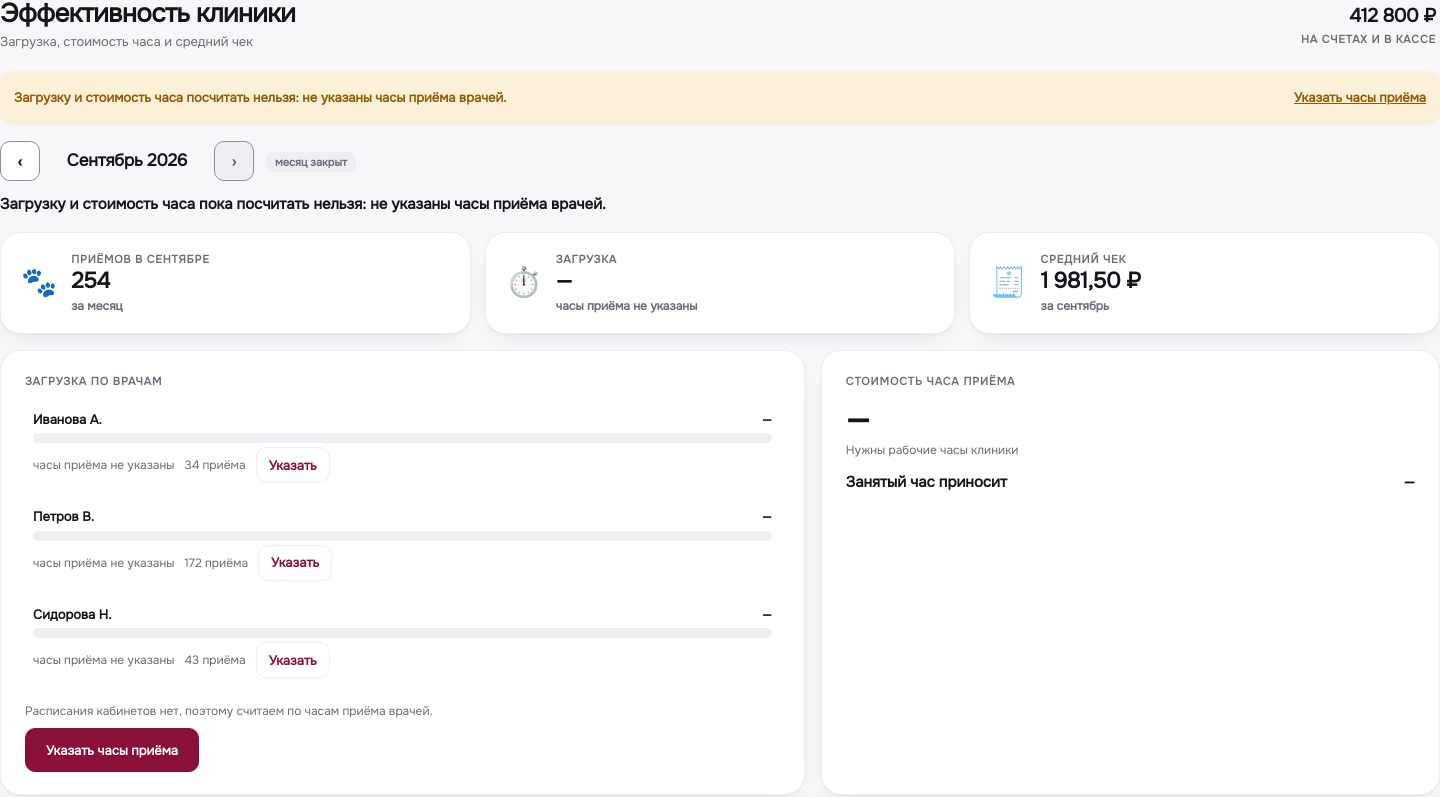
EfficiencyPage: doctors (the fallback mode) › shows the banner and dashes when no hours are set, and the hours are saved from the dialog
The image size is (1440, 797).
Check: the message with test id "efficiency-hours-banner" shows "Загрузку и стоимость часа посчитать нельзя: не указаны часы приёма врачей.", box [14,89,507,106]
Check: the text with test id "efficiency-load" reads "—", box [556,267,572,295]
Click the 1st button "Указать часы приёма" at {"x": 1360, "y": 98}, box [1294,82,1426,114]
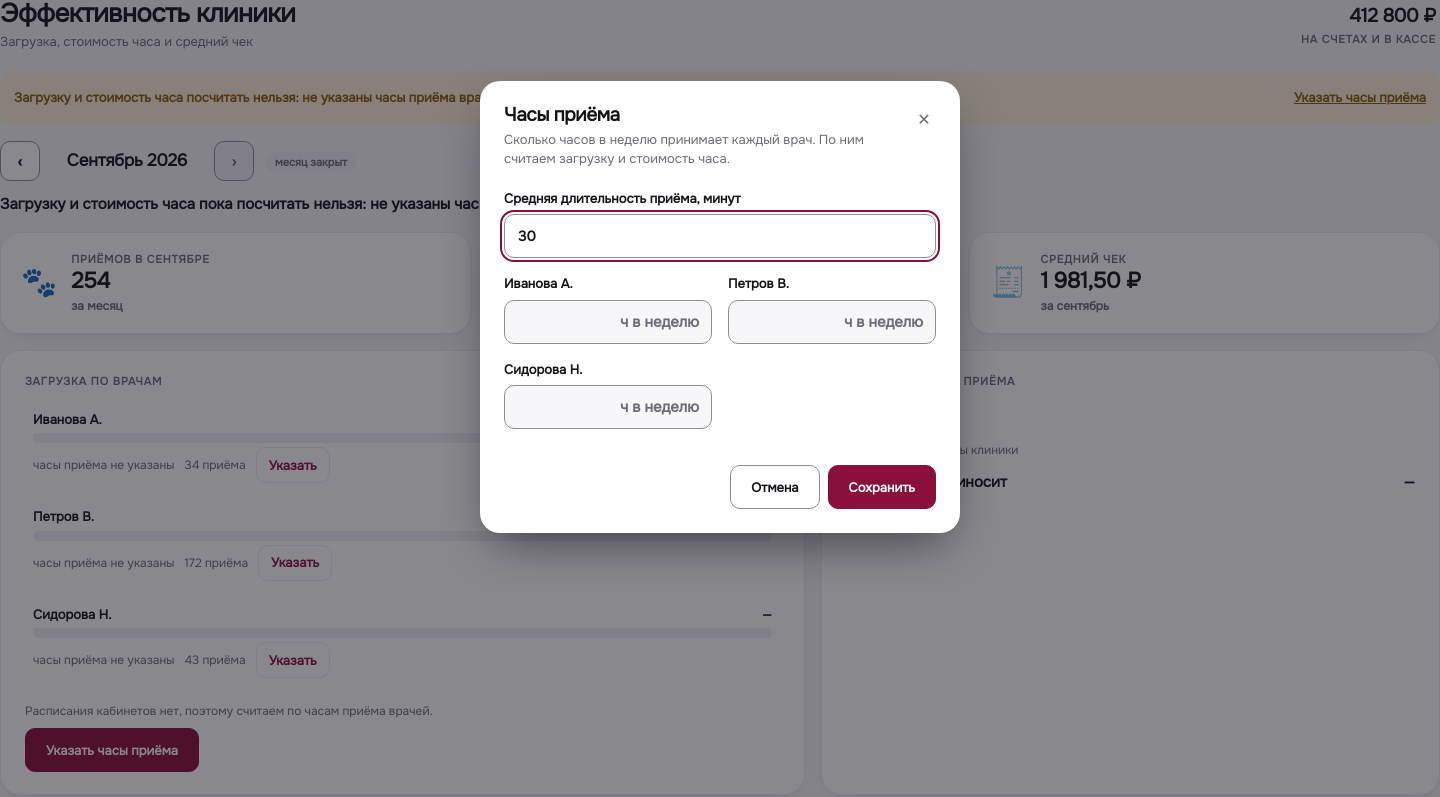
Type "30" into the field with test id "^efficiency-hours-field-doctor-[^-]+(-[^-]+)*$" at {"x": 608, "y": 322}, box [504,300,712,344]
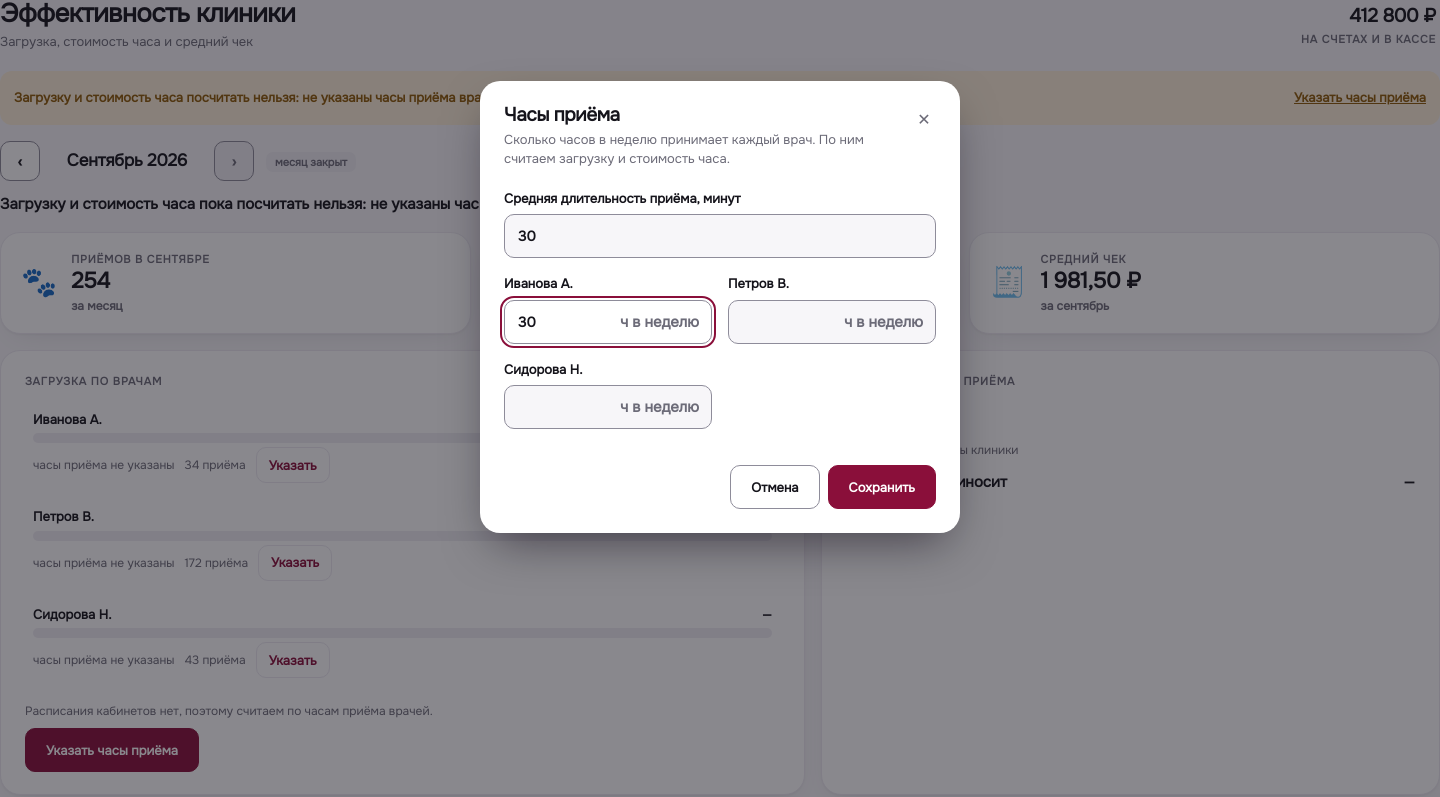
Type "30" into the field with test id "^efficiency-hours-field-doctor-[^-]+(-[^-]+)*$" at {"x": 832, "y": 322}, box [728,300,936,344]
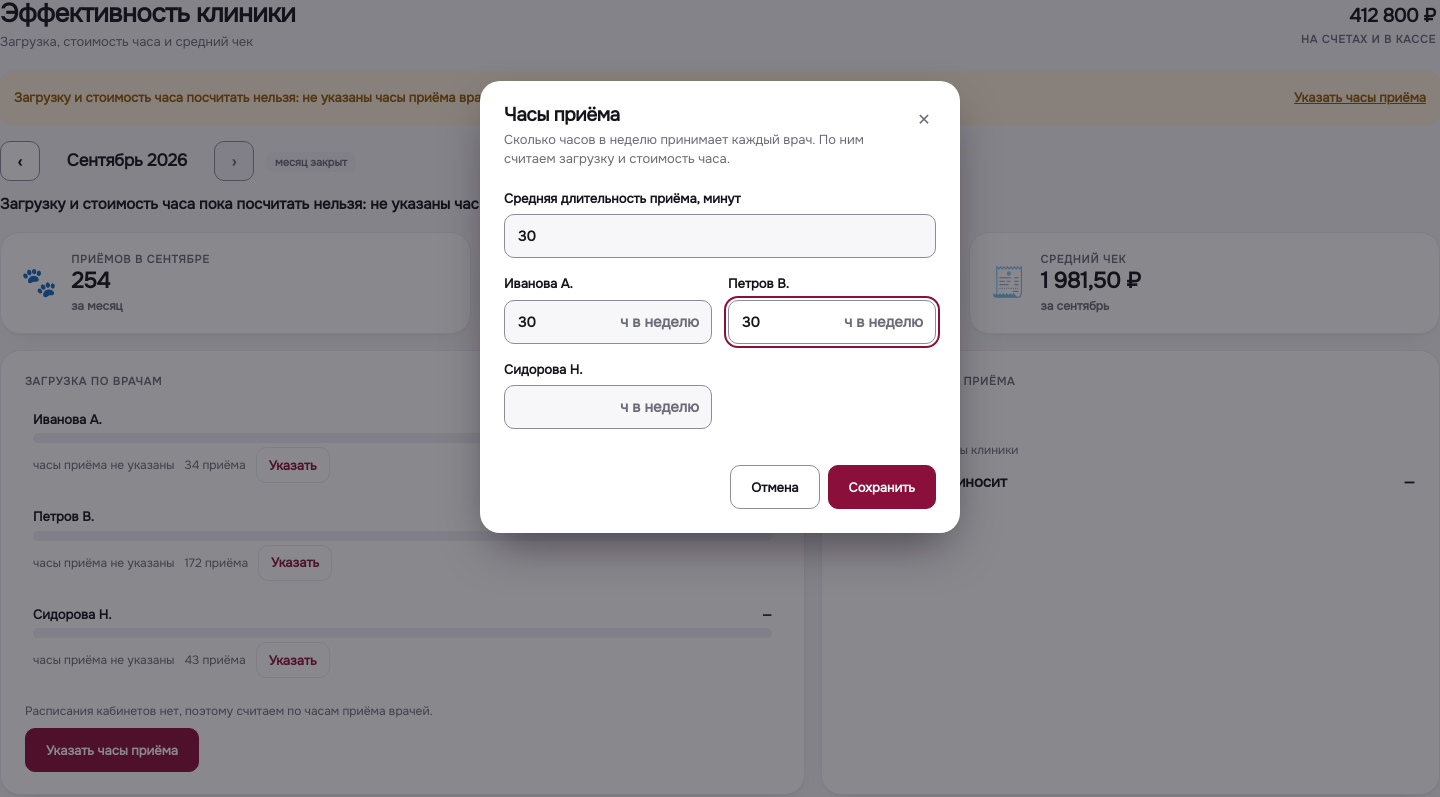
Type "30" into the field with test id "^efficiency-hours-field-doctor-[^-]+(-[^-]+)*$" at {"x": 608, "y": 407}, box [504,385,712,429]
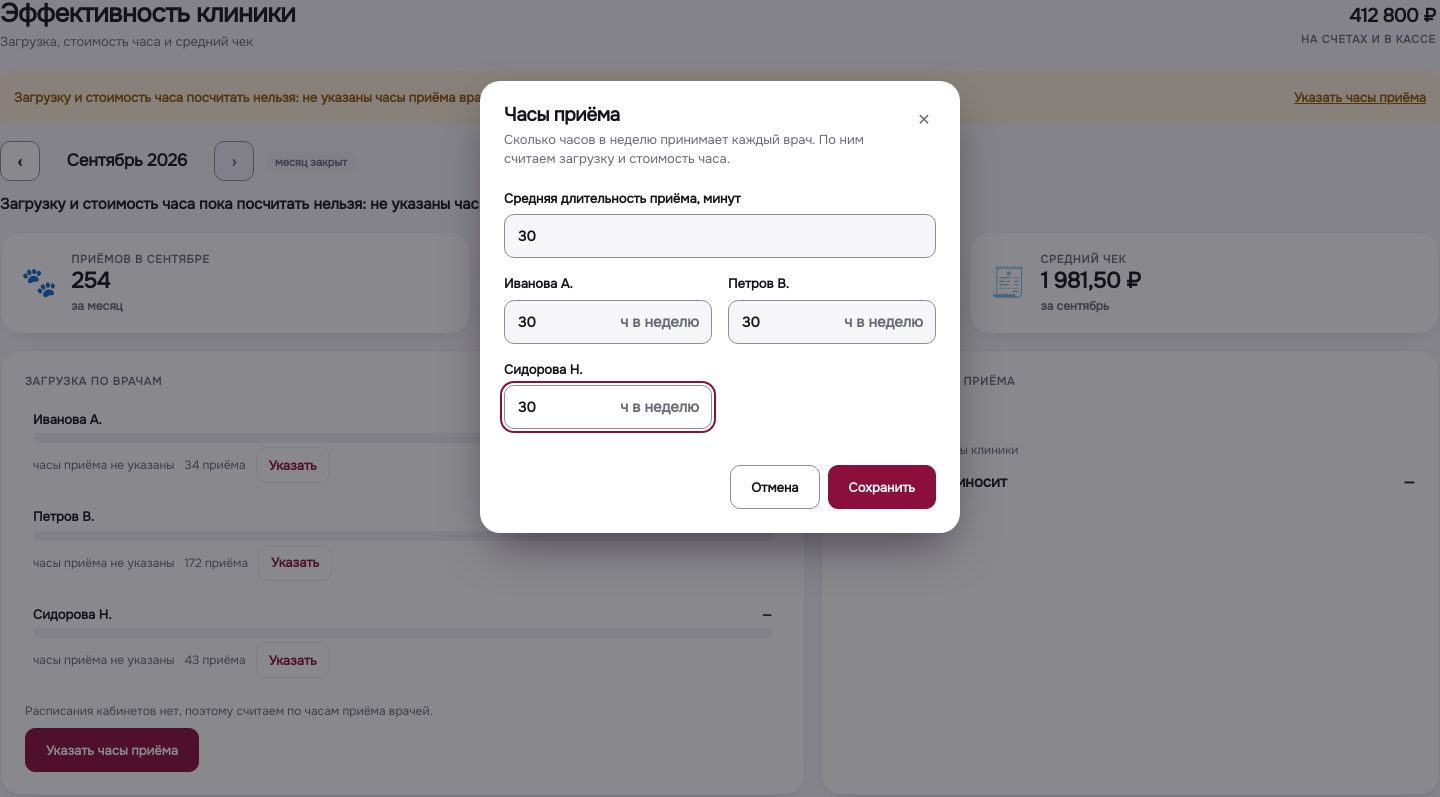
Click the button with test id "efficiency-hours-save" at {"x": 882, "y": 487}, box [828,465,936,509]
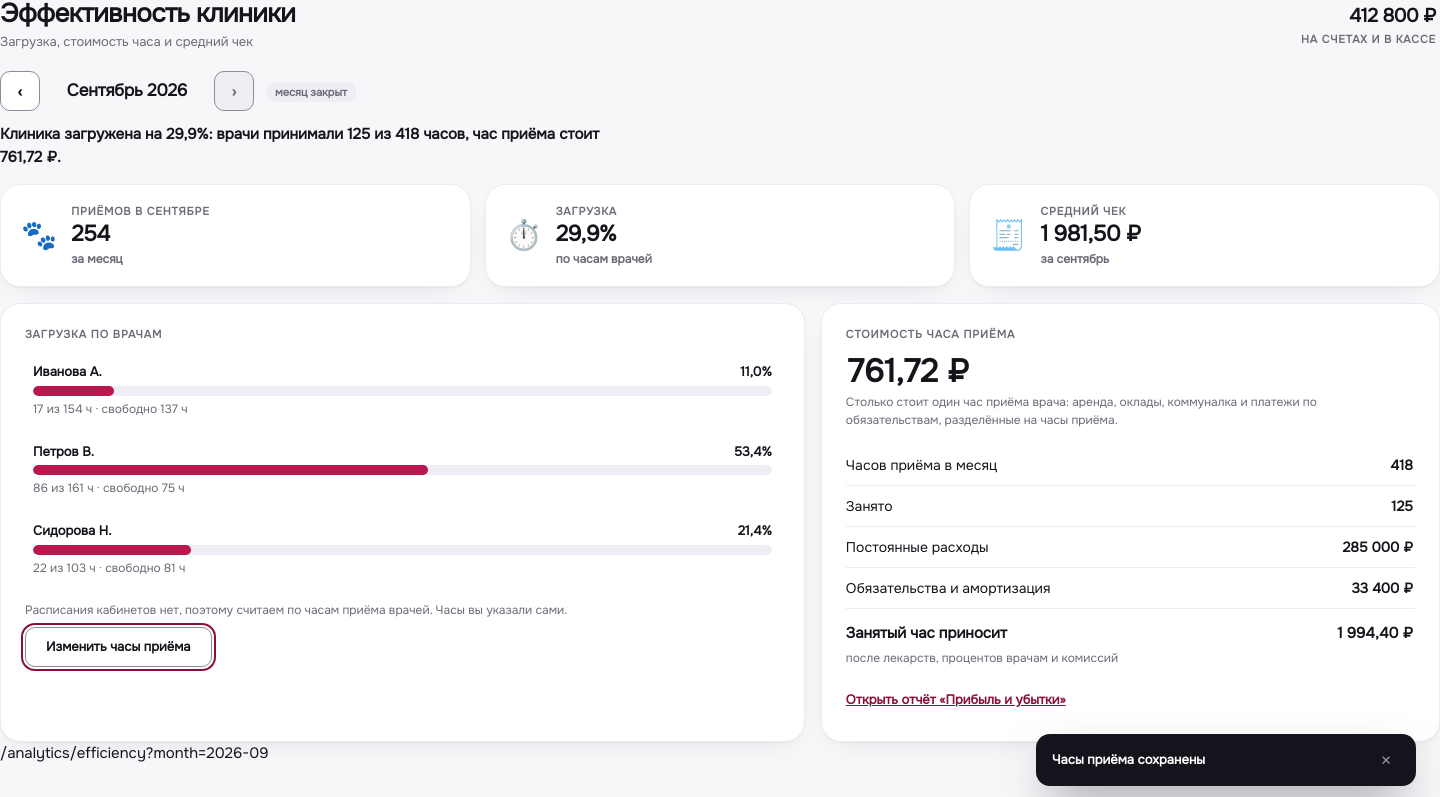
Check: the text "Часы приёма сохранены" is shown, box [1052,750,1205,770]
Check: the message with test id "efficiency-hours-banner" is gone
